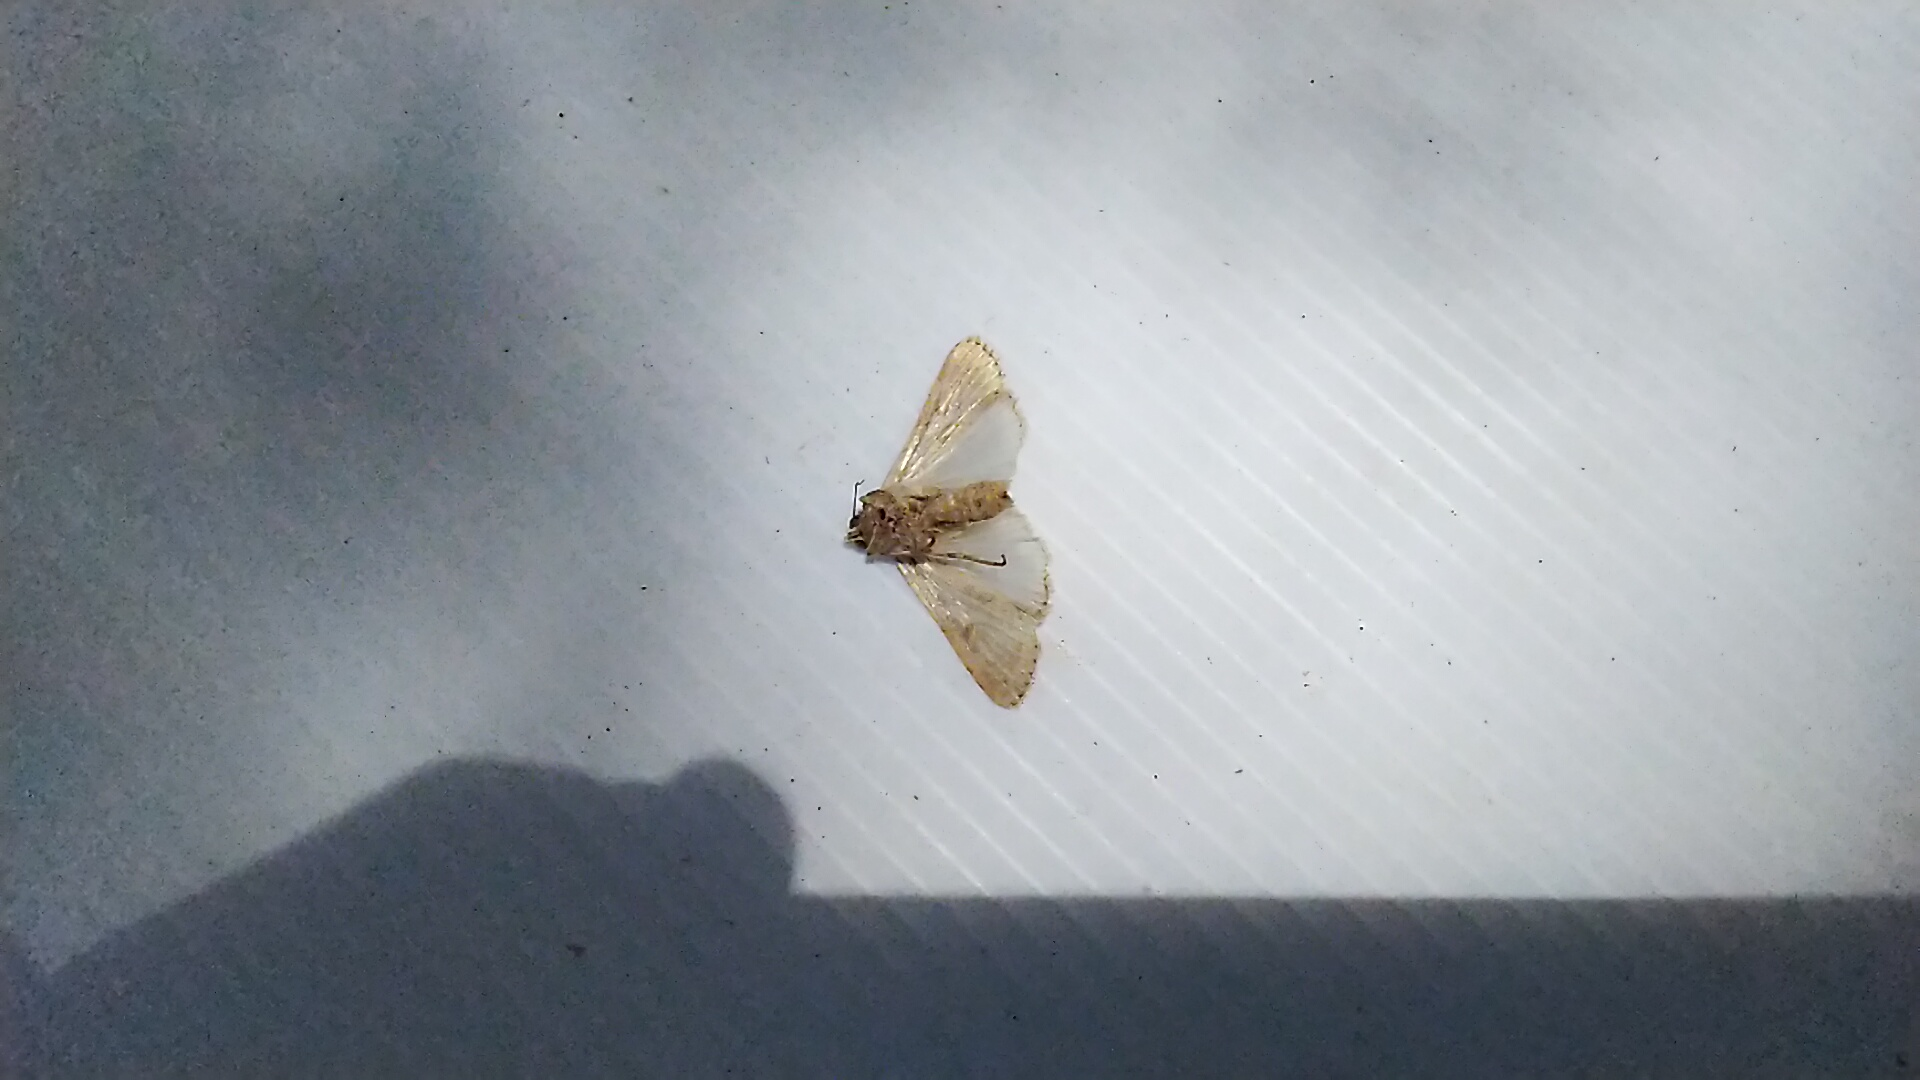INS-B: (837, 316, 1081, 732)
